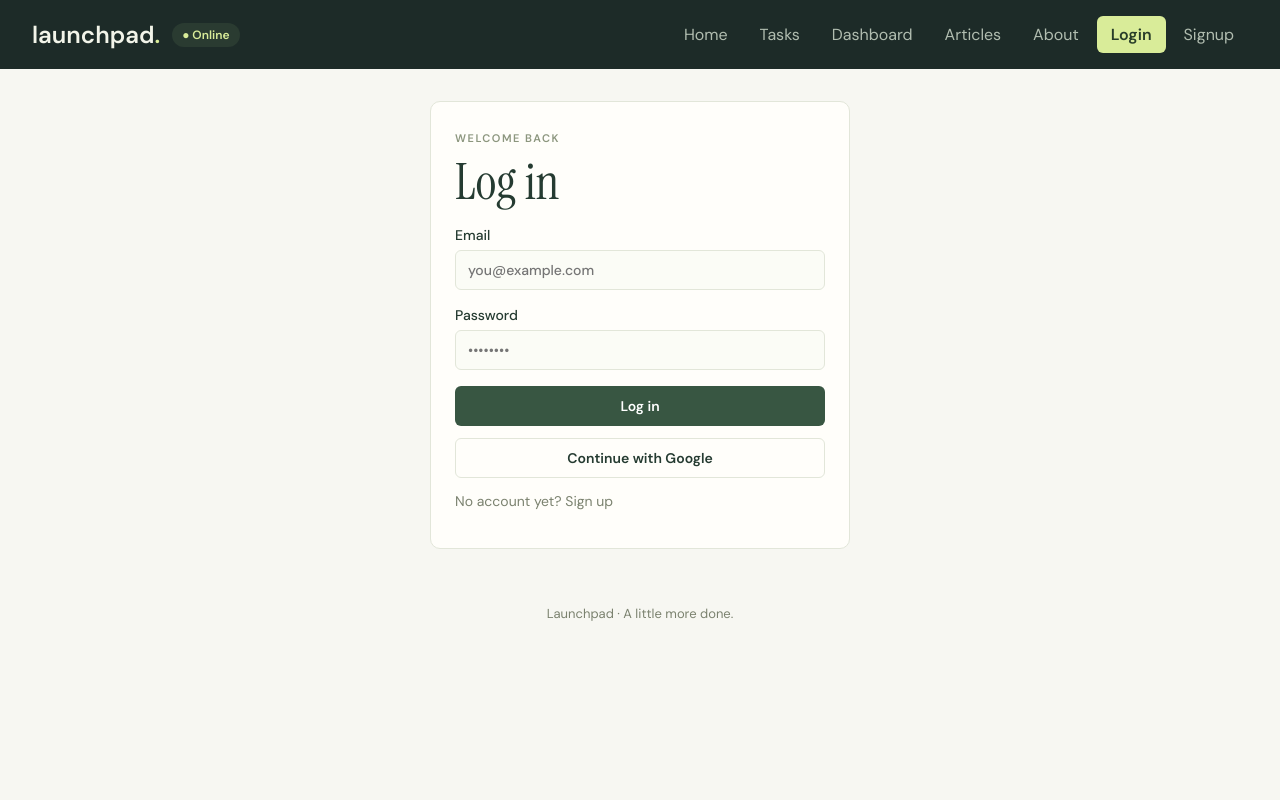
Test: caches the task list and refreshes it after a change
Later steps or results of the test are not shown.
Click the button "Continue with Google" at (640, 458), box [455,438,825,478]
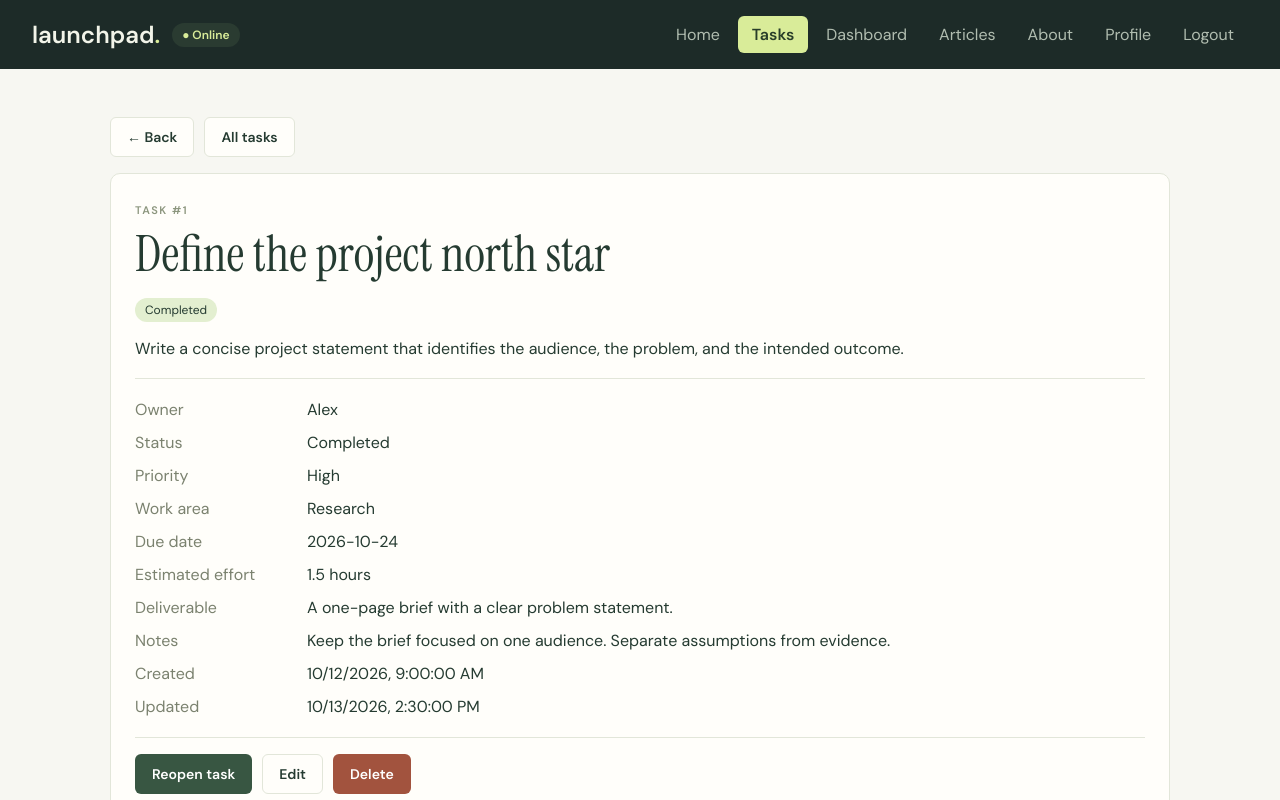
expect the heading "Define the project north star" is shown: met, box [135,221,610,287]
Click the button "Reopen task" at (194, 774), box [135,754,252,794]
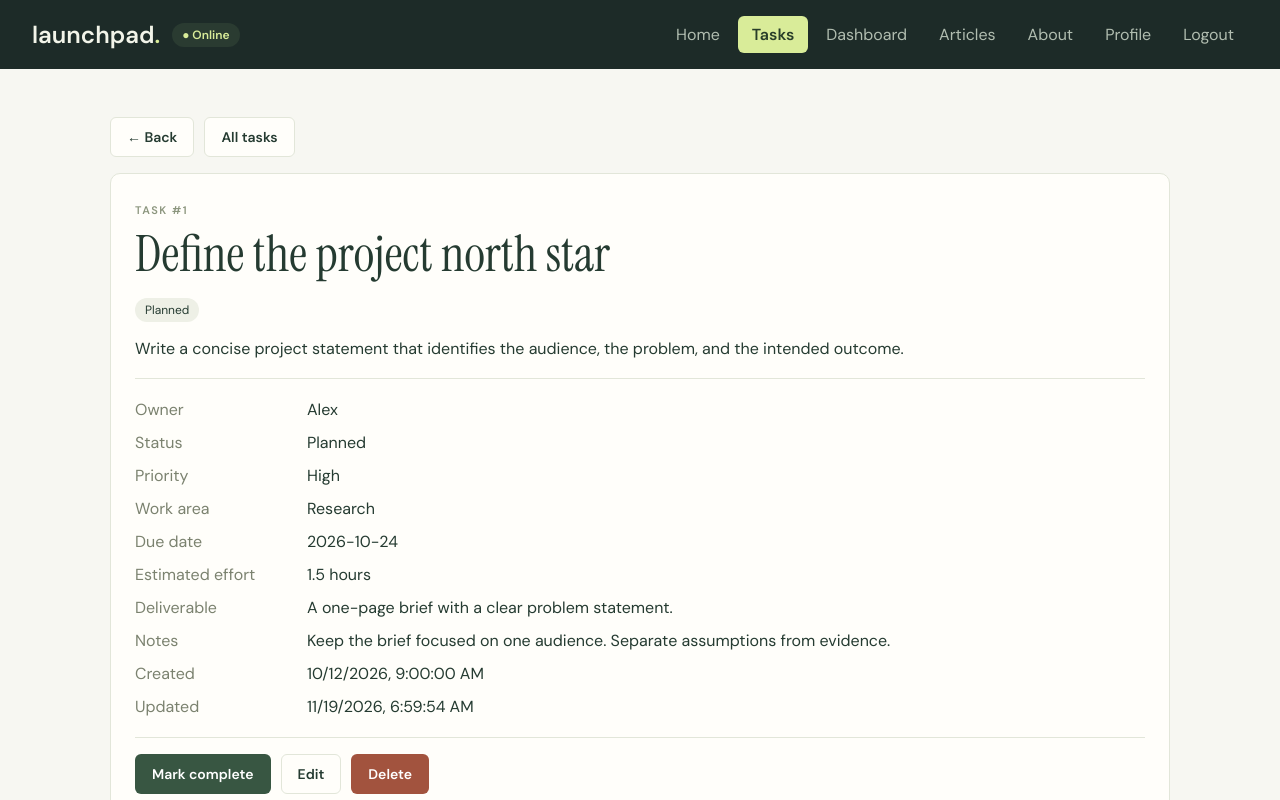
expect the button "Mark complete" is shown: met, box [135,754,270,794]
expect the 1st text "Planned" is shown: met, box [135,298,199,322]
